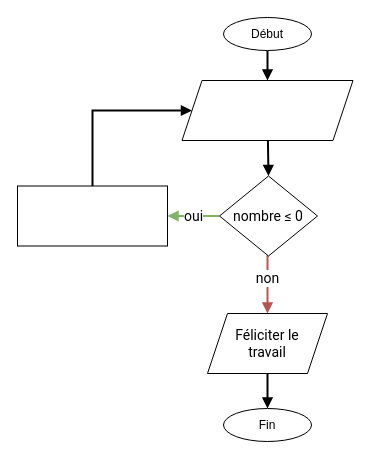
This 371x459 diagram has some shape labels left out. The shapes that lost their labels are listed below. From the top down, each one's centre as x and y in pixels, then its label:
At (x=267, y=110): "nombre = Demander un nombre positif".
At (x=92, y=215): "Insulter copieusement l'intelligence de la personne".
